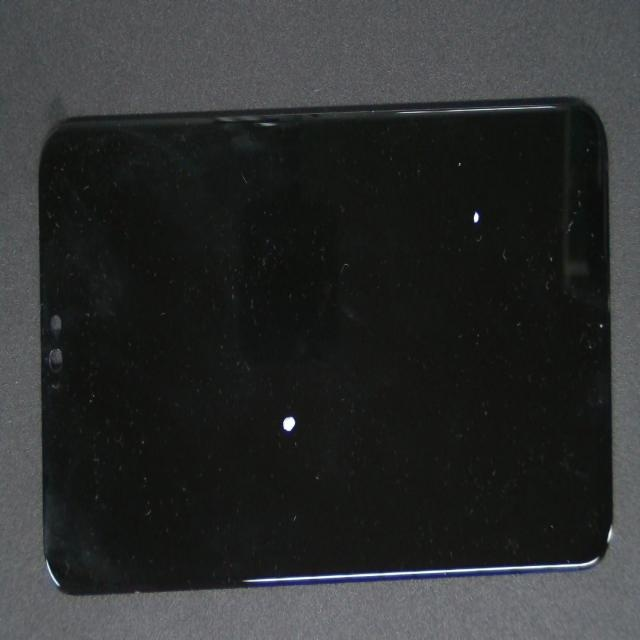stain: (137, 178, 412, 612), (243, 80, 640, 295)
